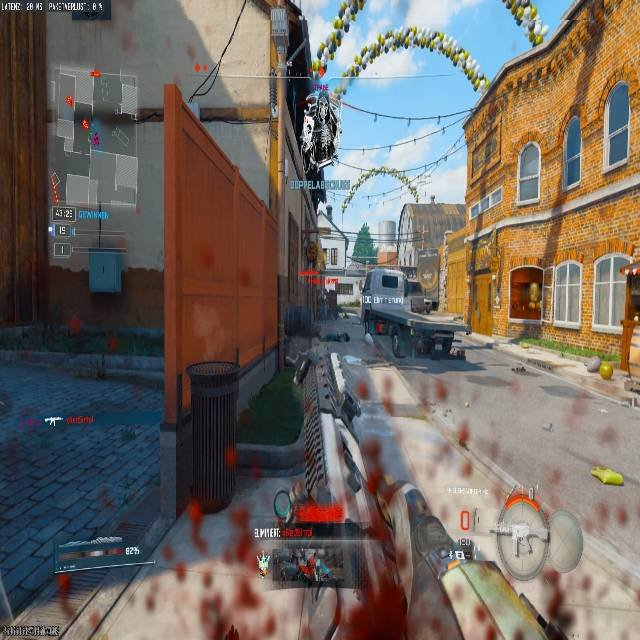player: (321, 284, 339, 320)
